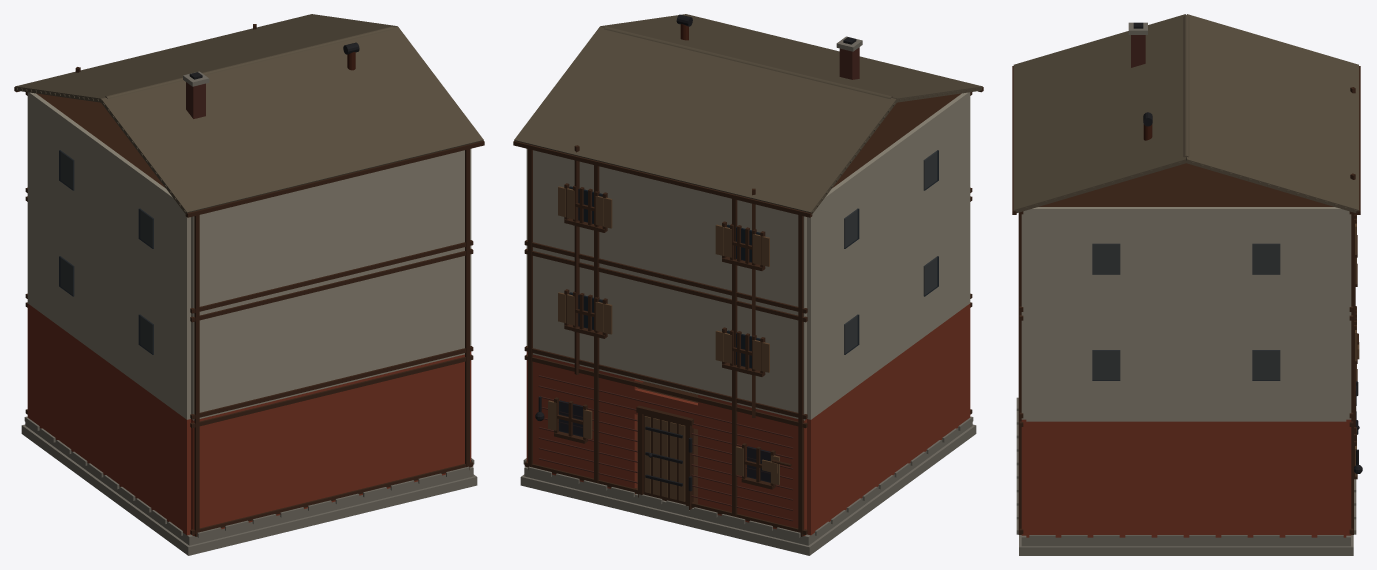
Rendered from GalakasMidCity_CornerHouseTall_W06D06_F01_R01U01x2L01_A01.obj.
The picture shows the model from 3 angles, left to right: view 1: azimuth 30°, elevation 25°; view 2: azimuth 150°, elevation 25°; view 3: azimuth 270°, elevation 25°; orthographic projection.
Visible parts, largest first — view 1: GalakasMidCity_CornerHouseTall_W06D06_F01_R01U01x2L01_A01_lower_, GalakasMidCity_CornerHouseTall_W06D06_F01_R01U01x2L01_A01_upper2, GalakasMidCity_CornerHouseTall_W06D06_F01_R01U01x2L01_A01_upper1, GalakasMidCity_CornerHouseTall_W06D06_F01_R01U01x2L01_A01_roof_b, GalakasMidCity_CornerHouseTall_W06D06_F01_R01U01x2L01_A01_roof_f, stone_plinth_base, stone_plinth_raised, GalakasMidCity_CornerHouseTall_W06D06_F01_R01U01x2L01_A01_chimne, GalakasMidCity_CornerHouseTall_W06D06_F01_R01U01x2L01_A01_roof_r; view 2: GalakasMidCity_CornerHouseTall_W06D06_F01_R01U01x2L01_A01_lower_, GalakasMidCity_CornerHouseTall_W06D06_F01_R01U01x2L01_A01_upper2, GalakasMidCity_CornerHouseTall_W06D06_F01_R01U01x2L01_A01_upper1, GalakasMidCity_CornerHouseTall_W06D06_F01_R01U01x2L01_A01_roof_f, GalakasMidCity_CornerHouseTall_W06D06_F01_R01U01x2L01_A01_roof_b, stone_plinth_base, GalakasMidCity_CornerHouseTall_W06D06_F01_R01U01x2L01_A01_brick_, stone_plinth_raised, GalakasMidCity_CornerHouseTall_W06D06_F01_R01U01x2L01_A01_diag_b, GalakasMidCity_CornerHouseTall_W06D06_F01_R01U01x2L01_A01_roof_r, GalakasMidCity_CornerHouseTall_W06D06_F01_R01U01x2L01_A01_chimne; view 3: GalakasMidCity_CornerHouseTall_W06D06_F01_R01U01x2L01_A01_upper2, GalakasMidCity_CornerHouseTall_W06D06_F01_R01U01x2L01_A01_lower_, GalakasMidCity_CornerHouseTall_W06D06_F01_R01U01x2L01_A01_upper1, GalakasMidCity_CornerHouseTall_W06D06_F01_R01U01x2L01_A01_roof_f, GalakasMidCity_CornerHouseTall_W06D06_F01_R01U01x2L01_A01_roof_b, stone_plinth_base, stone_plinth_raised, GalakasMidCity_CornerHouseTall_W06D06_F01_R01U01x2L01_A01_chimne, GalakasMidCity_CornerHouseTall_W06D06_F01_R01U01x2L01_A01_roof_r.
Boxes of the visible parts, x1,y1,x2,y2 form: GalakasMidCity_CornerHouseTall_W06D06_F01_R01U01x2L01_A01_lower_: (25, 302, 473, 536); GalakasMidCity_CornerHouseTall_W06D06_F01_R01U01x2L01_A01_upper2: (25, 92, 473, 315); GalakasMidCity_CornerHouseTall_W06D06_F01_R01U01x2L01_A01_upper1: (25, 196, 473, 421); GalakasMidCity_CornerHouseTall_W06D06_F01_R01U01x2L01_A01_roof_b: (101, 26, 484, 217); GalakasMidCity_CornerHouseTall_W06D06_F01_R01U01x2L01_A01_roof_f: (14, 14, 397, 102); stone_plinth_base: (21, 424, 477, 555); stone_plinth_raised: (25, 416, 473, 545); GalakasMidCity_CornerHouseTall_W06D06_F01_R01U01x2L01_A01_chimne: (183, 42, 359, 118); GalakasMidCity_CornerHouseTall_W06D06_F01_R01U01x2L01_A01_roof_r: (105, 26, 393, 98); GalakasMidCity_CornerHouseTall_W06D06_F01_R01U01x2L01_A01_lower_: (524, 302, 972, 536); GalakasMidCity_CornerHouseTall_W06D06_F01_R01U01x2L01_A01_upper2: (524, 92, 972, 315); GalakasMidCity_CornerHouseTall_W06D06_F01_R01U01x2L01_A01_upper1: (524, 196, 972, 421); GalakasMidCity_CornerHouseTall_W06D06_F01_R01U01x2L01_A01_roof_f: (513, 26, 896, 217); GalakasMidCity_CornerHouseTall_W06D06_F01_R01U01x2L01_A01_roof_b: (600, 14, 983, 102); stone_plinth_base: (520, 424, 976, 555); GalakasMidCity_CornerHouseTall_W06D06_F01_R01U01x2L01_A01_brick_: (538, 375, 793, 521); stone_plinth_raised: (524, 416, 972, 545); GalakasMidCity_CornerHouseTall_W06D06_F01_R01U01x2L01_A01_diag_b: (574, 145, 755, 417); GalakasMidCity_CornerHouseTall_W06D06_F01_R01U01x2L01_A01_roof_r: (604, 26, 892, 98); GalakasMidCity_CornerHouseTall_W06D06_F01_R01U01x2L01_A01_chimne: (676, 14, 862, 79); GalakasMidCity_CornerHouseTall_W06D06_F01_R01U01x2L01_A01_upper2: (1018, 163, 1357, 315); GalakasMidCity_CornerHouseTall_W06D06_F01_R01U01x2L01_A01_lower_: (1018, 364, 1359, 537); GalakasMidCity_CornerHouseTall_W06D06_F01_R01U01x2L01_A01_upper1: (1018, 257, 1357, 421); GalakasMidCity_CornerHouseTall_W06D06_F01_R01U01x2L01_A01_roof_f: (1186, 14, 1360, 214); GalakasMidCity_CornerHouseTall_W06D06_F01_R01U01x2L01_A01_roof_b: (1012, 14, 1186, 214); stone_plinth_base: (1019, 535, 1353, 555); stone_plinth_raised: (1021, 535, 1350, 546); GalakasMidCity_CornerHouseTall_W06D06_F01_R01U01x2L01_A01_chimne: (1128, 22, 1152, 140); GalakasMidCity_CornerHouseTall_W06D06_F01_R01U01x2L01_A01_roof_r: (1183, 15, 1189, 157).
Size of the model in its own units: 12.95 by 17.5 by 13.14.
